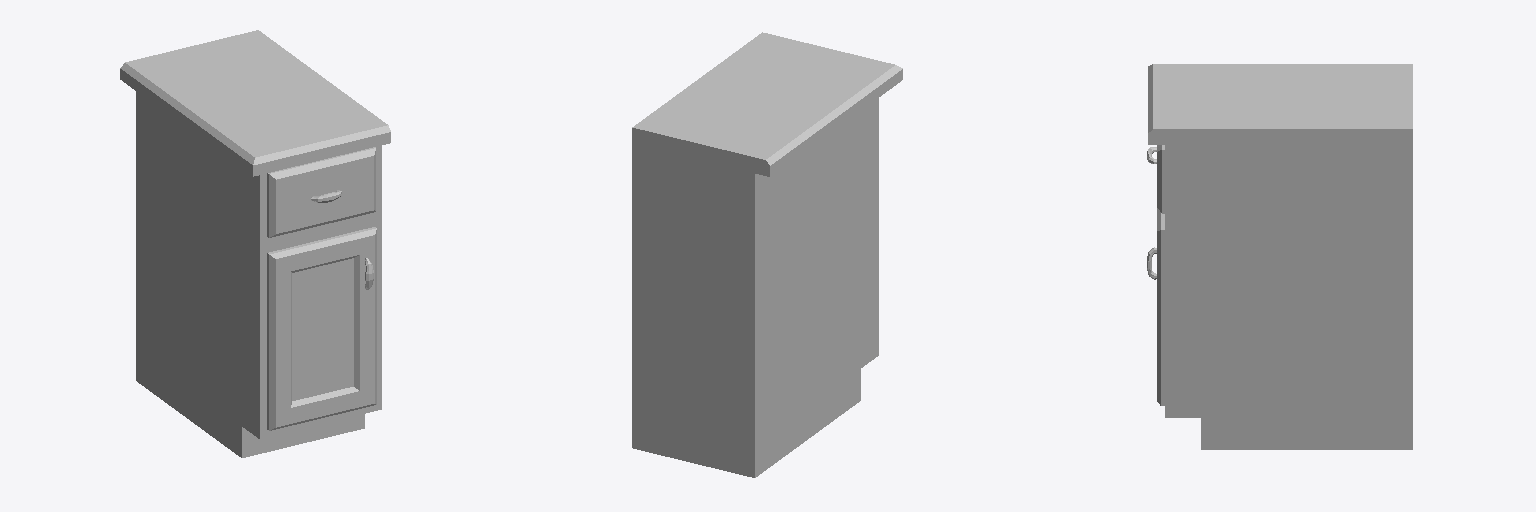
Rendered from Structure_Bathroom_Cabinet_End.obj.
3 renders of one model, left to right at view 1: azimuth 30°, elevation 25°; view 2: azimuth 150°, elevation 25°; view 3: azimuth 270°, elevation 25°, orthographic.
Visible parts, largest first — view 1: object4, object2, object1, object3; view 2: object4, object2; view 3: object4, object2, object1, object3.
Part boxes in pixels (x1,y1,x2,y2): object4: (136,91,381,457); object2: (120,30,390,176); object1: (267,227,376,430); object3: (267,147,375,237); object4: (632,98,878,477); object2: (632,32,902,176); object4: (1165,145,1412,449); object2: (1148,64,1412,144); object1: (1157,208,1164,405); object3: (1157,145,1164,213).
Size of the model in its own units: 0.45 by 1 by 0.7531.